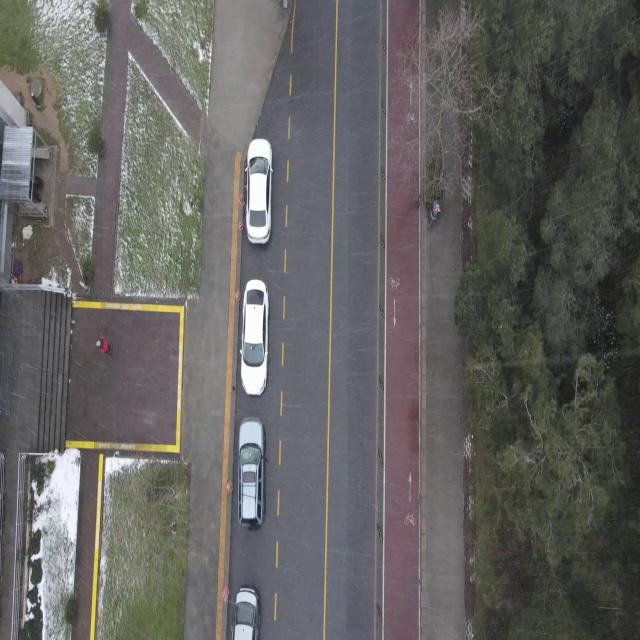p3rson: (96, 335, 112, 356), (32, 190, 42, 203)
